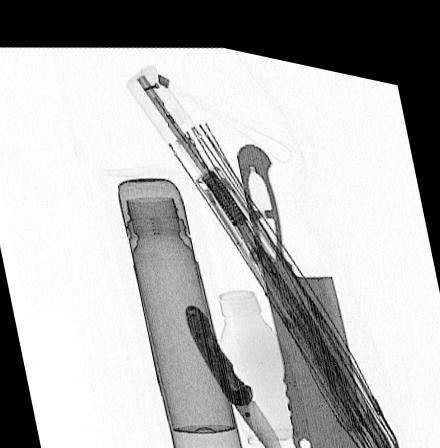Knife: (236, 131, 367, 448), (184, 295, 286, 448)
